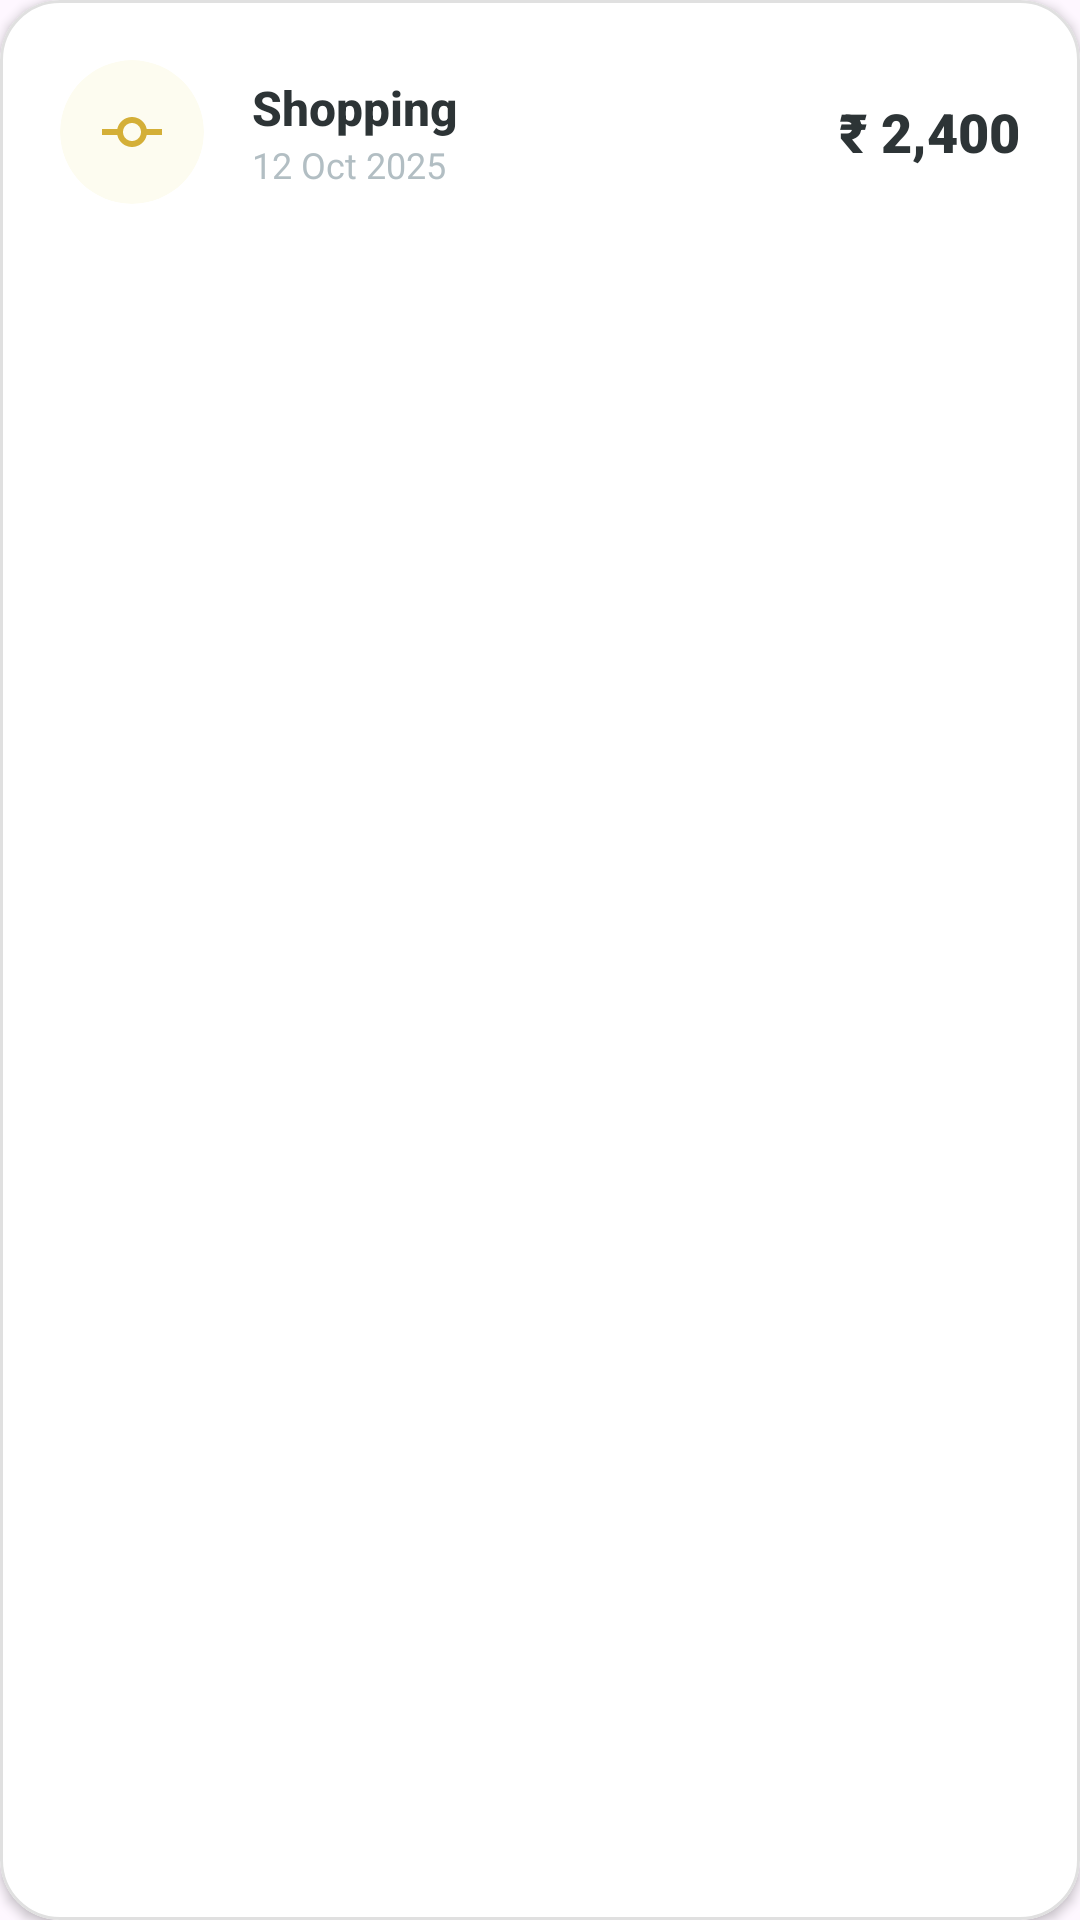

Where to tap for icons on this 1080 × 1920 app screen, as [x,y]:
commit: [132,132]
